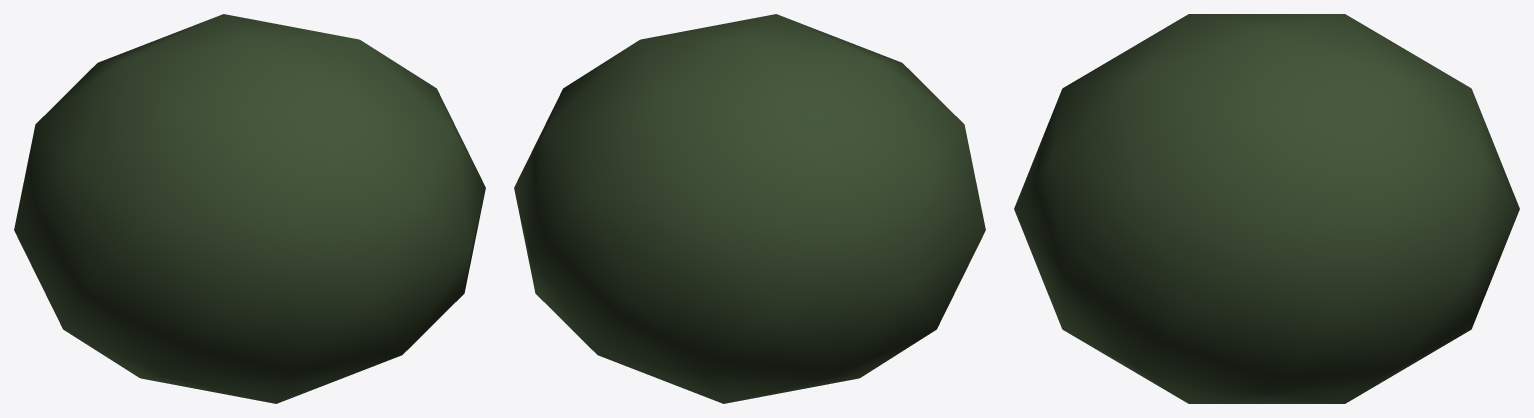
Rendered from site_shrub1.fbx.
3 views of the same model, side by side, from view 1: azimuth 30°, elevation 25°; view 2: azimuth 150°, elevation 25°; view 3: azimuth 270°, elevation 25° (orthographic). The views are drawn at different scales.
Visible parts, largest first — view 1: a1019/0/site_shrub1; view 2: a1019/0/site_shrub1; view 3: a1019/0/site_shrub1.
Part boxes in pixels (<box>): a1019/0/site_shrub1: <box>14,14,485,403</box>; a1019/0/site_shrub1: <box>514,14,985,403</box>; a1019/0/site_shrub1: <box>1014,14,1519,403</box>.
Bounding box in the file's own units: 1.14 × 0.92 × 1.2.
